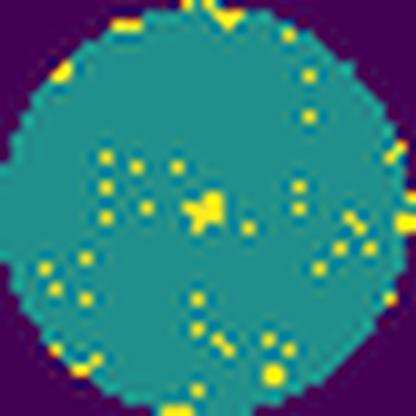Center: (181, 190, 228, 237)
